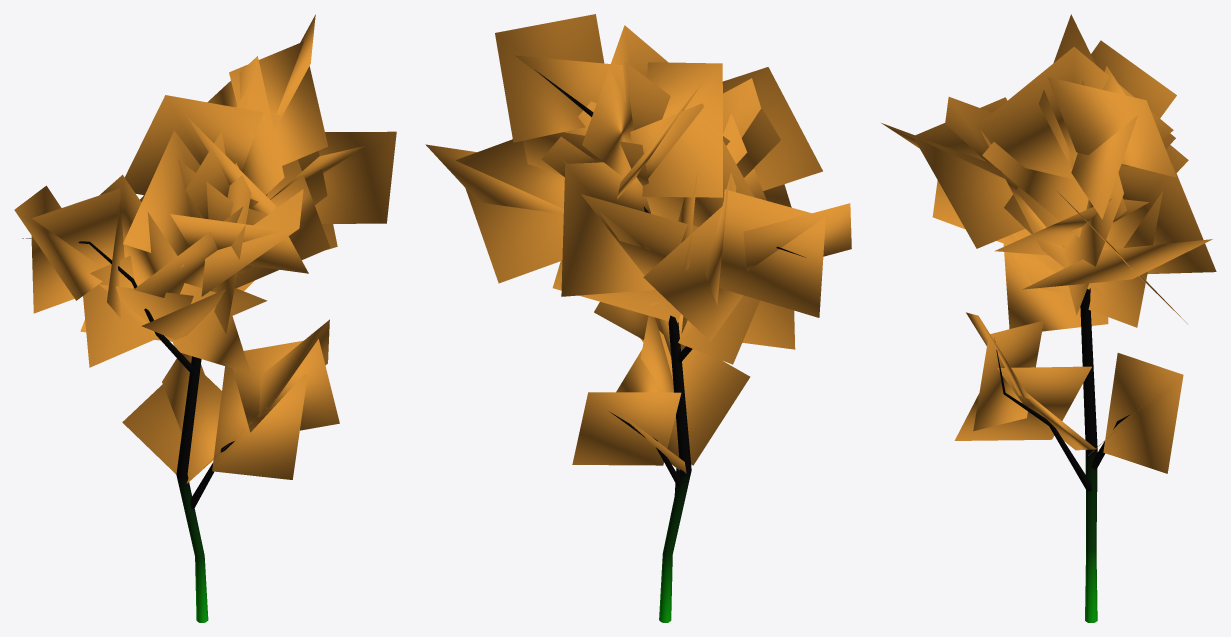
The model's file is SM_RedMapleSapling02.fbx.
3 views of the same model, side by side, from view 1: azimuth 30°, elevation 25°; view 2: azimuth 150°, elevation 25°; view 3: azimuth 270°, elevation 25° (orthographic). The views are drawn at different scales.
Visible parts, largest first — view 1: SM_RedMapleSapling02_LOD1; view 2: SM_RedMapleSapling02_LOD1; view 3: SM_RedMapleSapling02_LOD1.
Part boxes in pixels (x1=…): SM_RedMapleSapling02_LOD1: x1=14, y1=14, x2=396, y2=622; SM_RedMapleSapling02_LOD1: x1=425, y1=14, x2=851, y2=622; SM_RedMapleSapling02_LOD1: x1=881, y1=14, x2=1216, y2=622.
Size of the model in its own units: 426 by 574 by 292.
